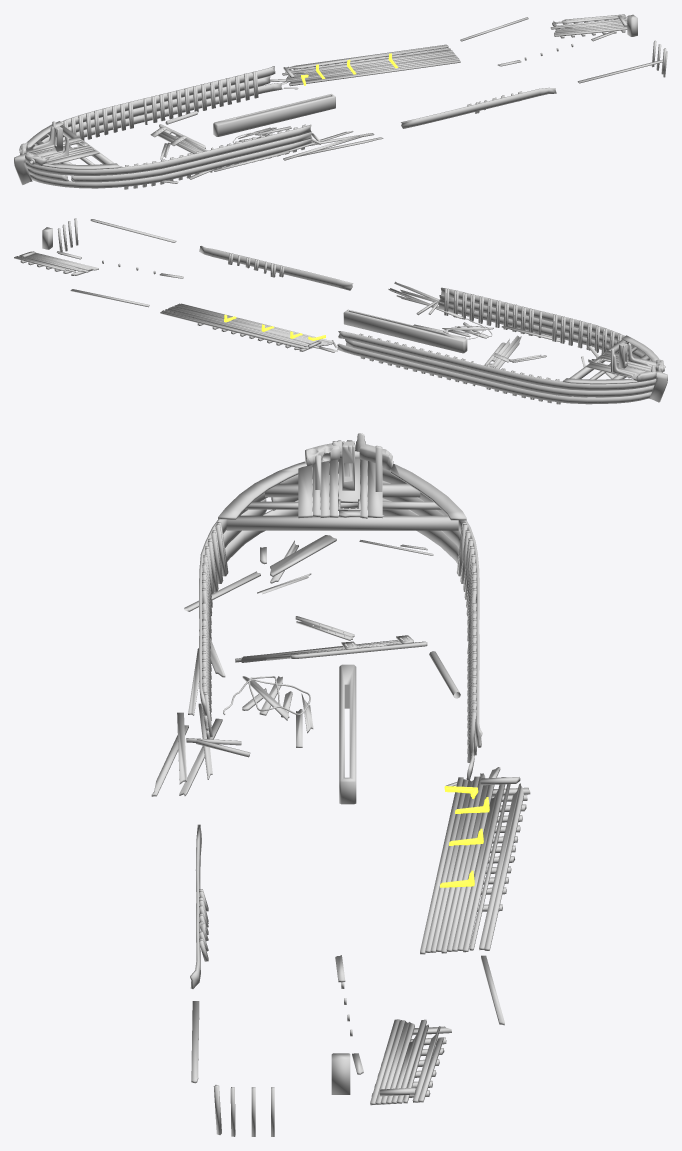
File: LeSalle00.fbx
3 renders of one model, top to bottom at view 1: azimuth 30°, elevation 25°; view 2: azimuth 150°, elevation 25°; view 3: azimuth 270°, elevation 25°, orthographic. The views are drawn at different scales.
Visible parts, largest first — view 1: LaSalle00; view 2: LaSalle00; view 3: LaSalle00, IronKnees00.
Boxes of the visible parts, bbox=[...] form: LaSalle00: bbox=[14, 14, 667, 189]; LaSalle00: bbox=[14, 218, 667, 404]; LaSalle00: bbox=[151, 433, 530, 1136]; IronKnees00: bbox=[440, 786, 489, 887].
Bounding box in the file's own units: 2859 × 285 × 746.
